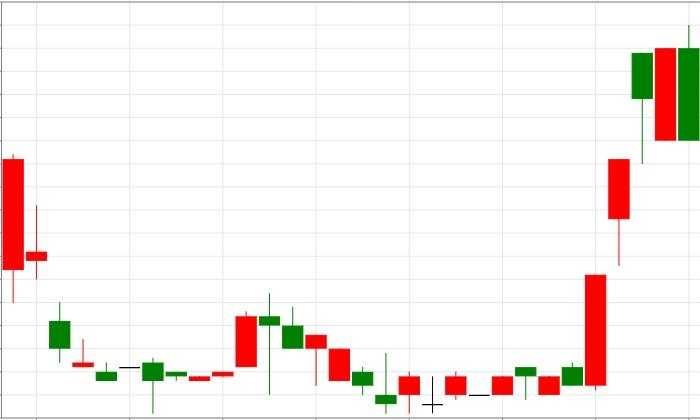hanging_man_fall: (538, 52, 652, 395)
